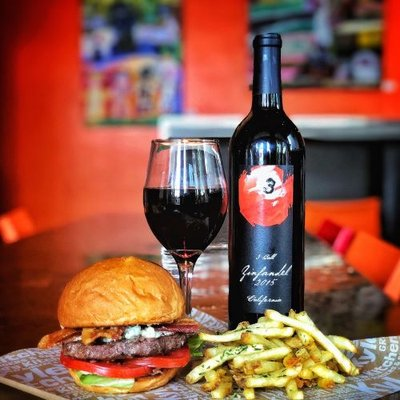soup: (36, 255, 203, 396)
